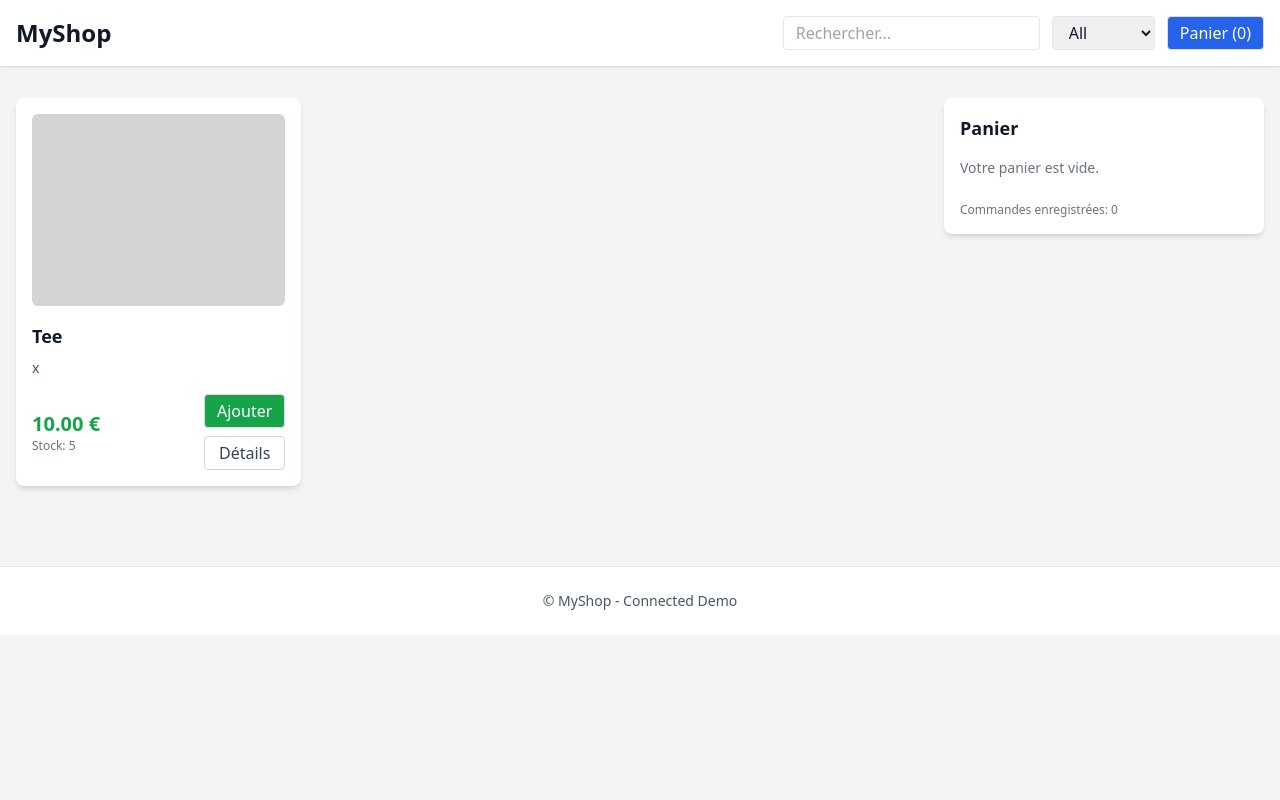
Test: E-commerce App › affiche les produits et ajoute au panier
Expected: the heading "Tee" is shown, [32,324,62,348]
Note: Bouton "Ajouter"
What coordinates should you click on to do the following:
click the button "Ajouter"
I would click on:
 (245, 411)
Its box is [204,394,285,428].
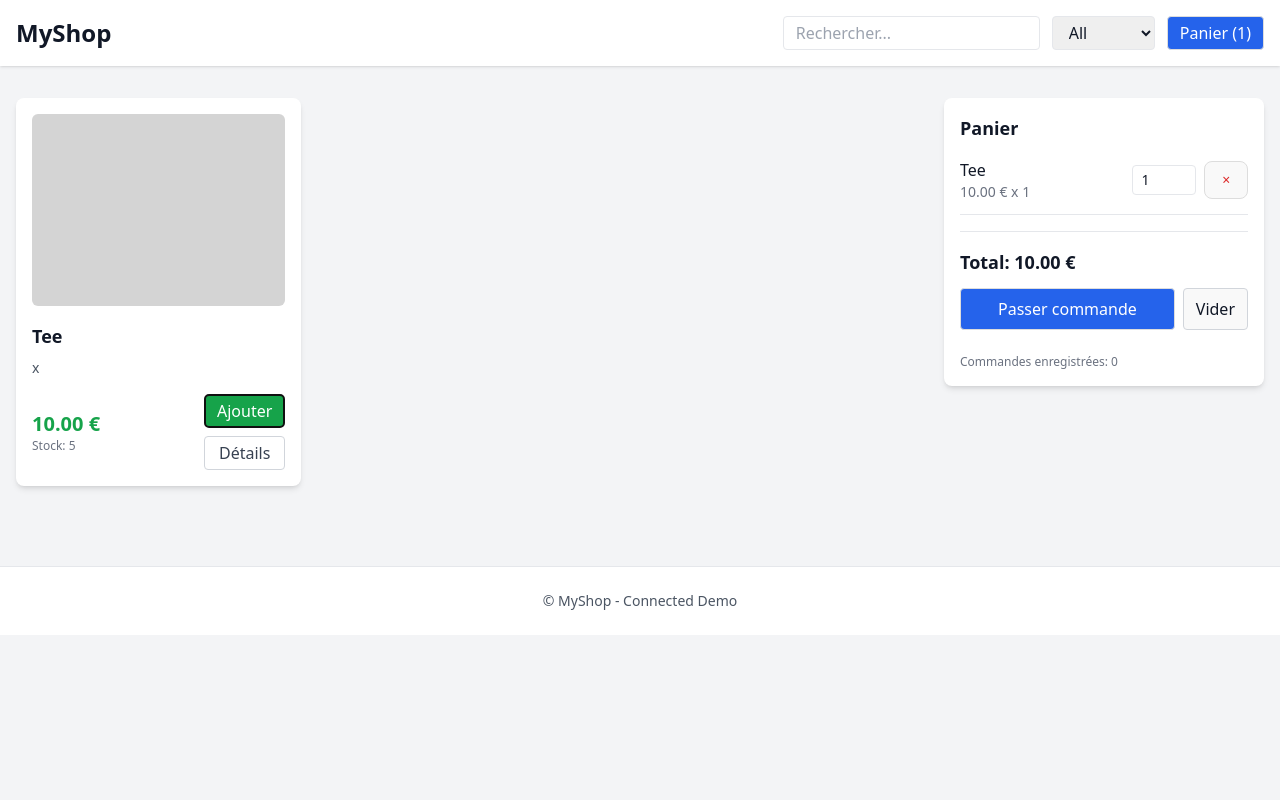
Now the button "Panier (1)" is shown, box [1167,16,1264,50]
